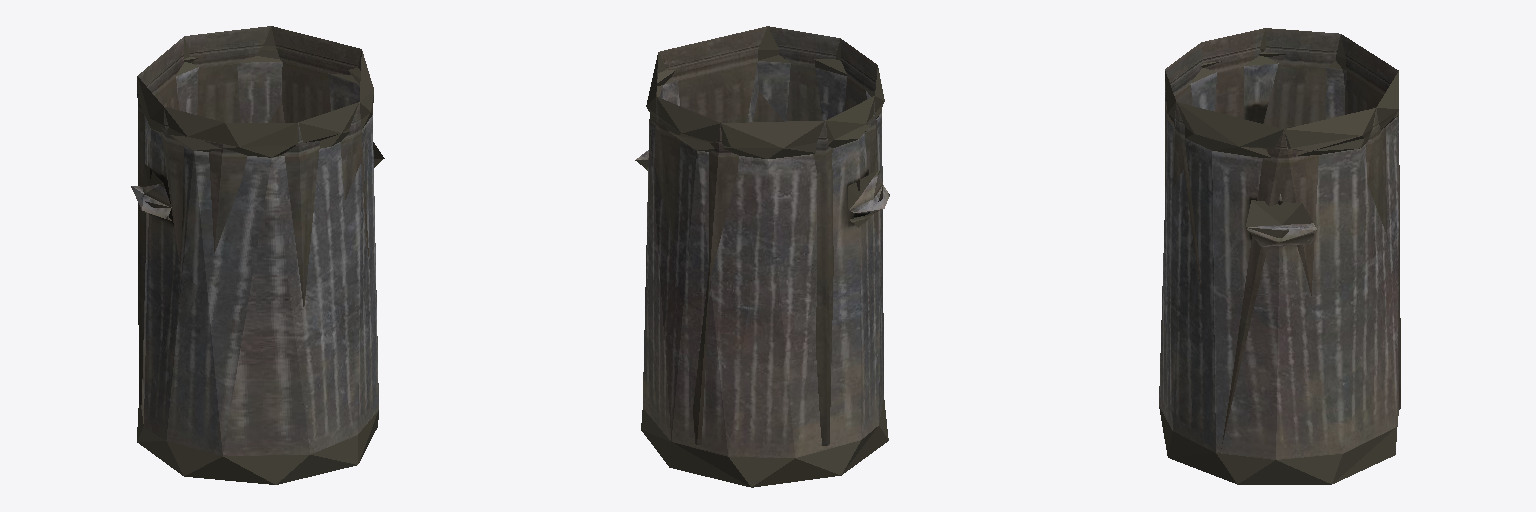
The picture shows the model from 3 angles: view 1: azimuth 30°, elevation 25°; view 2: azimuth 150°, elevation 25°; view 3: azimuth 270°, elevation 25°; orthographic projection.
Visible parts, largest first — view 1: metal_trash_can_metal_trash_can; view 2: metal_trash_can_metal_trash_can; view 3: metal_trash_can_metal_trash_can.
Part boxes in pixels (x1,y1,x2,y2): metal_trash_can_metal_trash_can: (131,26,384,484); metal_trash_can_metal_trash_can: (635,26,889,487); metal_trash_can_metal_trash_can: (1159,28,1400,484).
Bounding box in the file's own units: 0.6095 × 0.9062 × 0.5545.
1 materials, 1 textured.